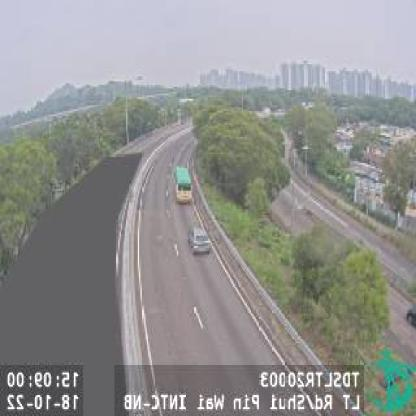Car: (188, 227, 211, 255)
Minibus: (173, 164, 193, 204)
